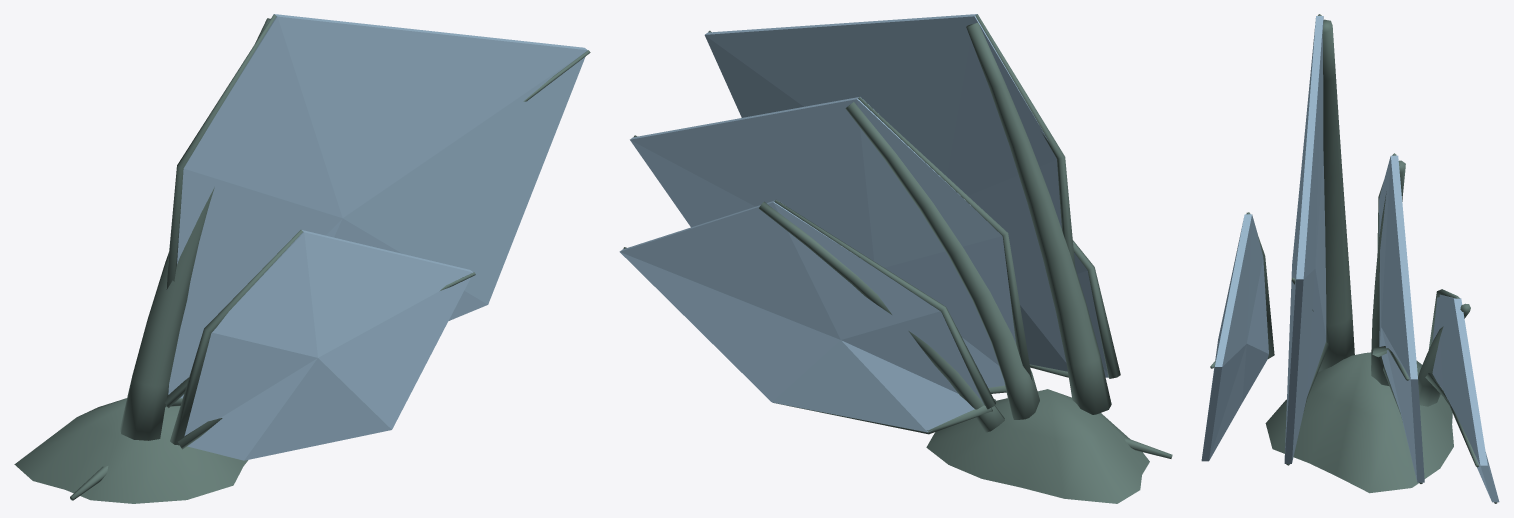
The model's file is flora_sail_membrane_a.glb.
3 views of the same model, side by side, from view 1: azimuth 30°, elevation 25°; view 2: azimuth 150°, elevation 25°; view 3: azimuth 270°, elevation 25° (orthographic). The views are drawn at different scales.
Visible parts, largest first — view 1: flora_sail_membrane_a_lod0; view 2: flora_sail_membrane_a_lod0; view 3: flora_sail_membrane_a_lod0.
Boxes of the visible parts, x1=… form: flora_sail_membrane_a_lod0: x1=14, y1=14, x2=590, y2=503; flora_sail_membrane_a_lod0: x1=619, y1=14, x2=1172, y2=503; flora_sail_membrane_a_lod0: x1=1201, y1=14, x2=1499, y2=503.
Size of what is drawn, in the model's own units: 3.99 by 3.11 by 1.8.
